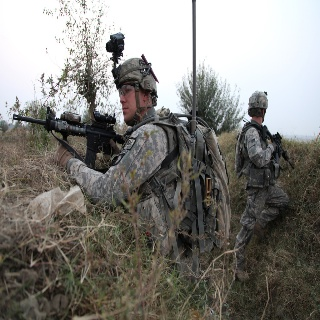rifle: (12, 107, 127, 168)
